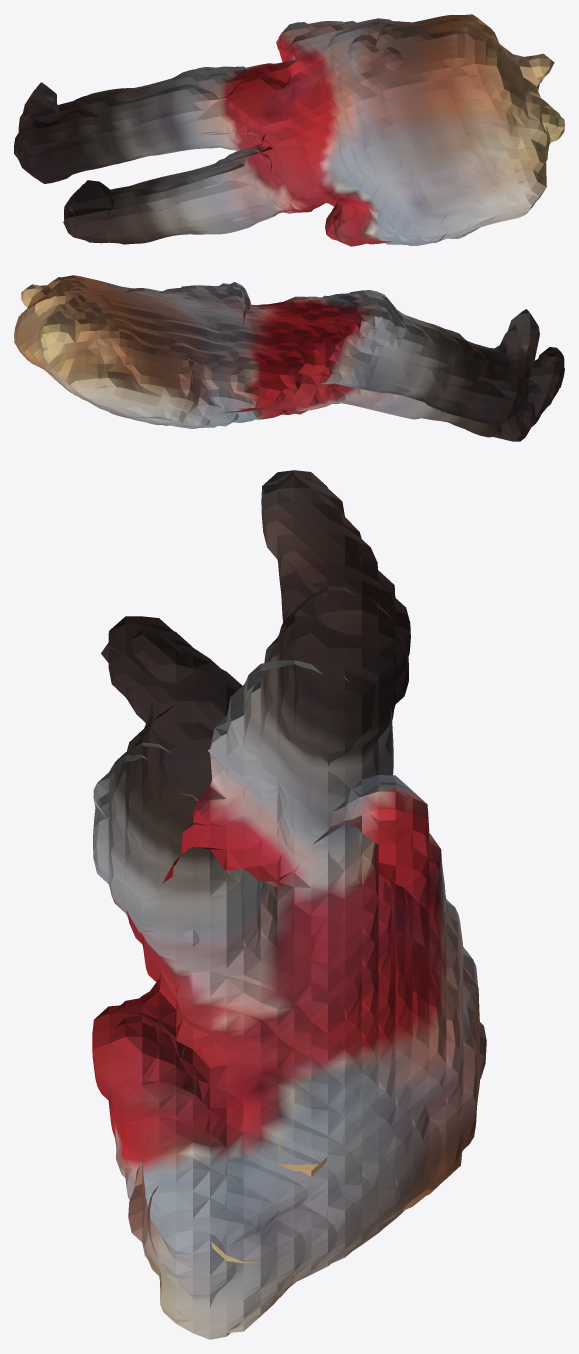
The picture shows the model from 3 angles, top to bottom: view 1: azimuth 30°, elevation 25°; view 2: azimuth 150°, elevation 25°; view 3: azimuth 270°, elevation 25°; orthographic projection. The views are drawn at different scales.
Visible parts, largest first — view 1: world; view 2: world; view 3: world.
Boxes of the visible parts, left/top/right/bottom form: world: left=14, top=14, right=564, bottom=246; world: left=14, top=275, right=564, bottom=441; world: left=92, top=470, right=486, bottom=1339.
Bounding box in the file's own units: 0.9581 × 0.3957 × 0.3201.
